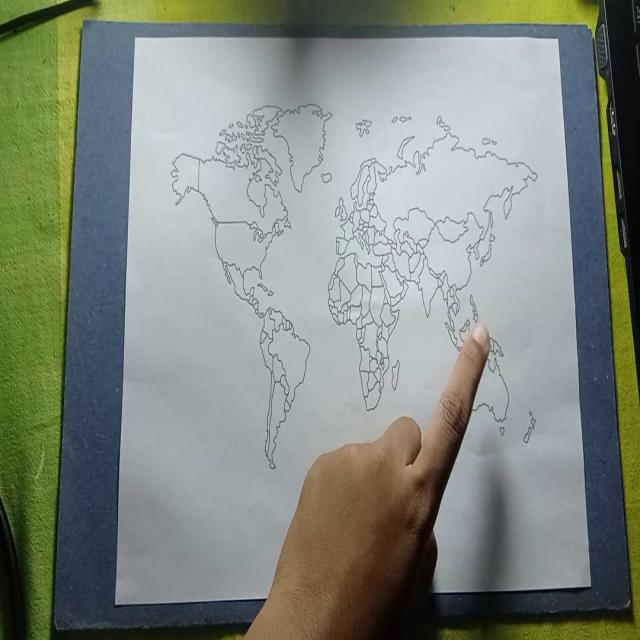AUS: (461, 357, 511, 426)
BRAZIL: (271, 326, 312, 406)
CANADA: (202, 157, 290, 225)
CHINA: (424, 216, 487, 294)
GREENLAND: (273, 102, 332, 192)
INDIA: (416, 256, 443, 319)
RUSSIA: (375, 133, 539, 235)
USA: (215, 223, 282, 277)
